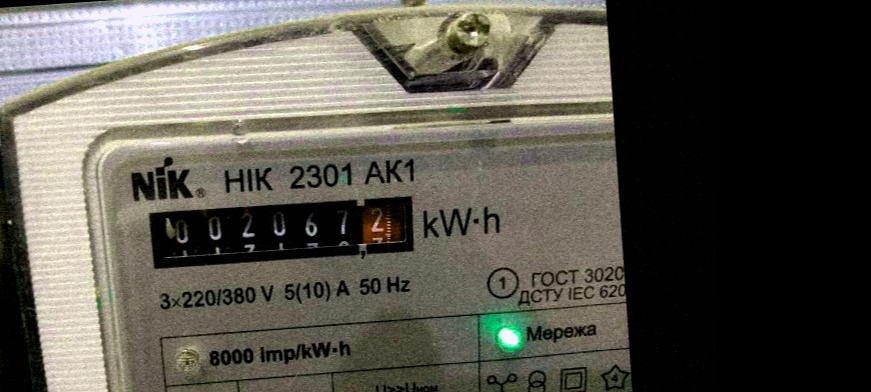0: (170, 215, 190, 245), (204, 211, 223, 241), (267, 206, 286, 235)
2: (366, 203, 386, 233), (237, 208, 256, 238)
6: (300, 207, 320, 237)
7: (333, 205, 351, 236)
screen: (133, 180, 430, 281)
